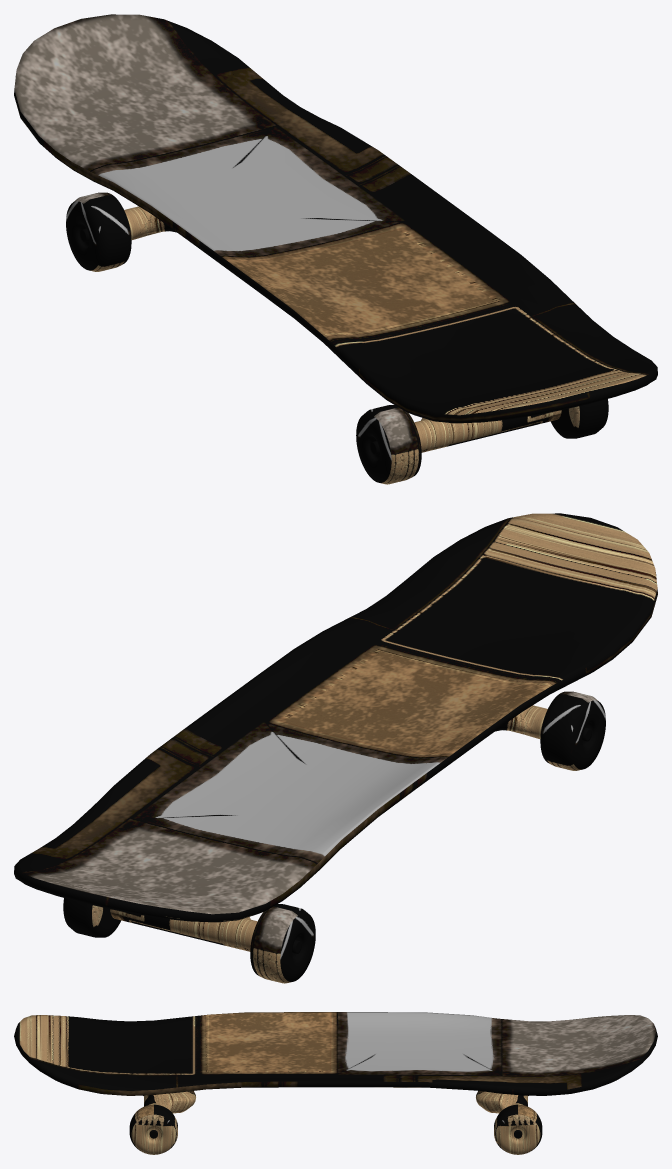
The model's file is skateboard.fbx.
3 views of the same model, one above another, from view 1: azimuth 30°, elevation 25°; view 2: azimuth 150°, elevation 25°; view 3: azimuth 270°, elevation 25° (orthographic). The views are drawn at different scales.
Visible parts, largest first — view 1: Object_2, Object_4, Object_3, Object_5; view 2: Object_2, Object_3, Object_4, Object_5; view 3: Object_2, Object_3, Object_4, Object_5.
Boxes of the visible parts, left/top/right/bottom form: Object_2: left=14, top=14, right=657, bottom=423; Object_4: left=356, top=399, right=608, bottom=484; Object_3: left=66, top=192, right=131, bottom=271; Object_5: left=80, top=206, right=561, bottom=454; Object_2: left=14, top=513, right=657, bottom=922; Object_3: left=63, top=898, right=315, bottom=983; Object_4: left=540, top=691, right=605, bottom=770; Object_5: left=110, top=705, right=591, bottom=953; Object_2: left=14, top=1012, right=657, bottom=1095; Object_3: left=494, top=1095, right=542, bottom=1154; Object_4: left=129, top=1095, right=177, bottom=1154; Object_5: left=144, top=1091, right=527, bottom=1138.
Size of the model in its own units: 274 by 167 by 1069.
